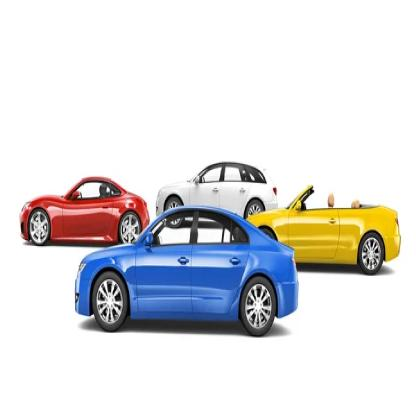car: (73, 206, 301, 331), (251, 186, 407, 268), (21, 176, 148, 243), (149, 161, 292, 214)
